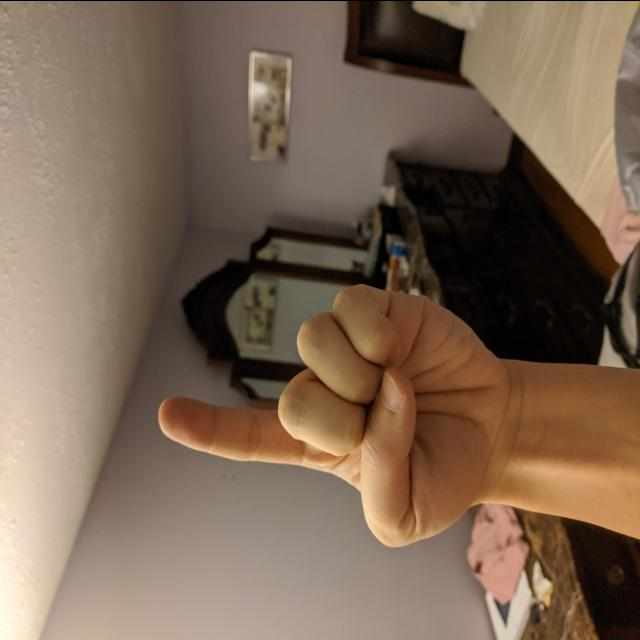D: (154, 277, 509, 551)
